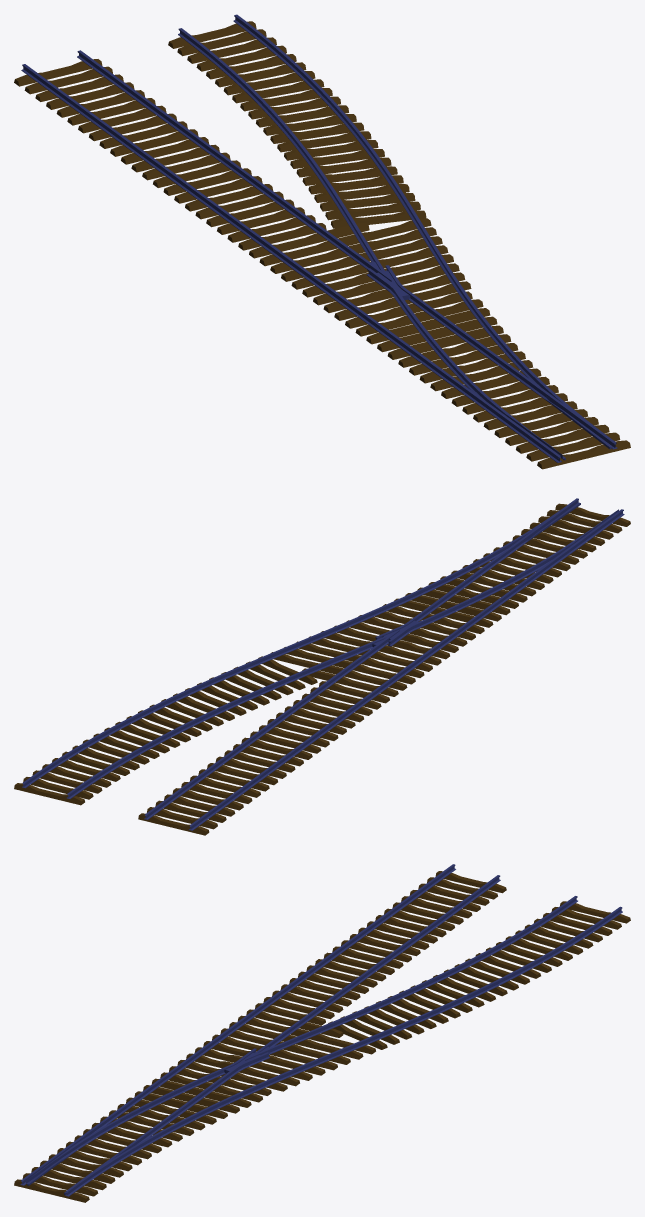
File: SM_RailsTangle.fbx
3 views of the same model, one above another, from view 1: azimuth 30°, elevation 25°; view 2: azimuth 150°, elevation 25°; view 3: azimuth 330°, elevation 25° (orthographic). The views are drawn at different scales.
Parts seen in each view (by area): view 1: SM_RailsTangle_LOD0; view 2: SM_RailsTangle_LOD0; view 3: SM_RailsTangle_LOD0.
Part boxes in pixels (left/top/right/bottom): SM_RailsTangle_LOD0: left=14, top=14, right=630, bottom=469; SM_RailsTangle_LOD0: left=14, top=498, right=630, bottom=835; SM_RailsTangle_LOD0: left=14, top=864, right=630, bottom=1202.
Size of what is drawn, in the model's own units: 770 by 37.44 by 3013.
